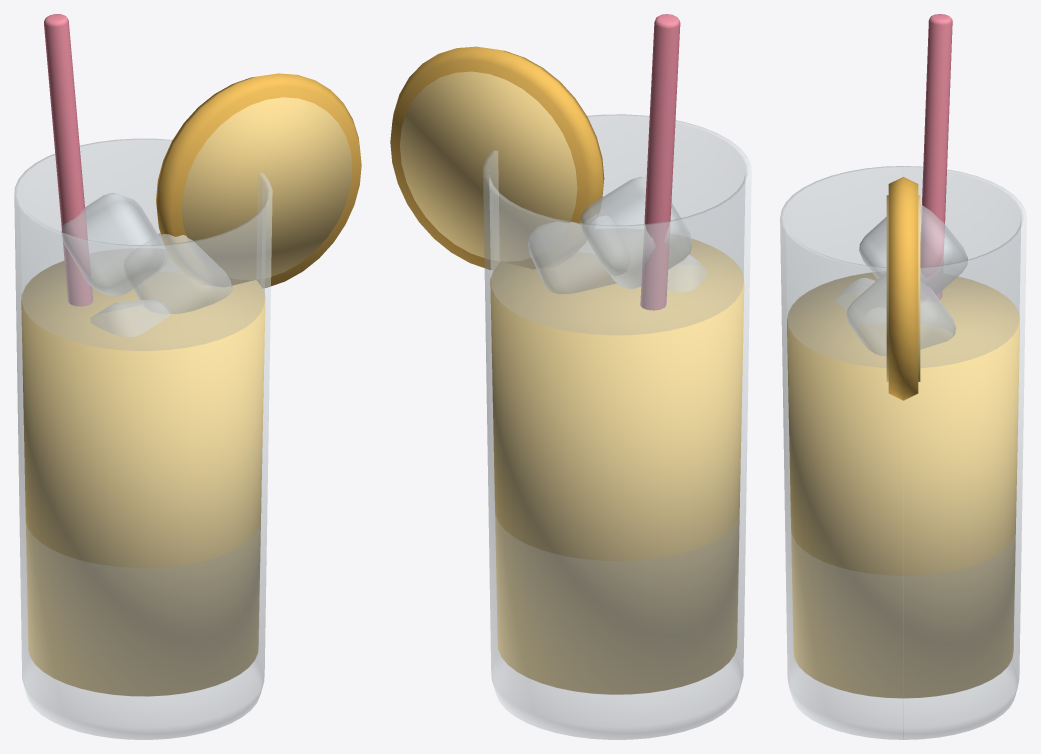
The model's file is glass_juice.glb.
3 renders of one model, left to right at view 1: azimuth 30°, elevation 25°; view 2: azimuth 150°, elevation 25°; view 3: azimuth 270°, elevation 25°, orthographic. The views are drawn at different scales.
Parts seen in each view (by area): view 1: glass_juice; view 2: glass_juice; view 3: glass_juice.
Boxes of the visible parts, x1,y1,x2,y2 form: glass_juice: (14,14,361,739); glass_juice: (390,14,751,739); glass_juice: (780,14,1026,739).
Size of the model in its own units: 0.097 by 0.1902 by 0.066.
